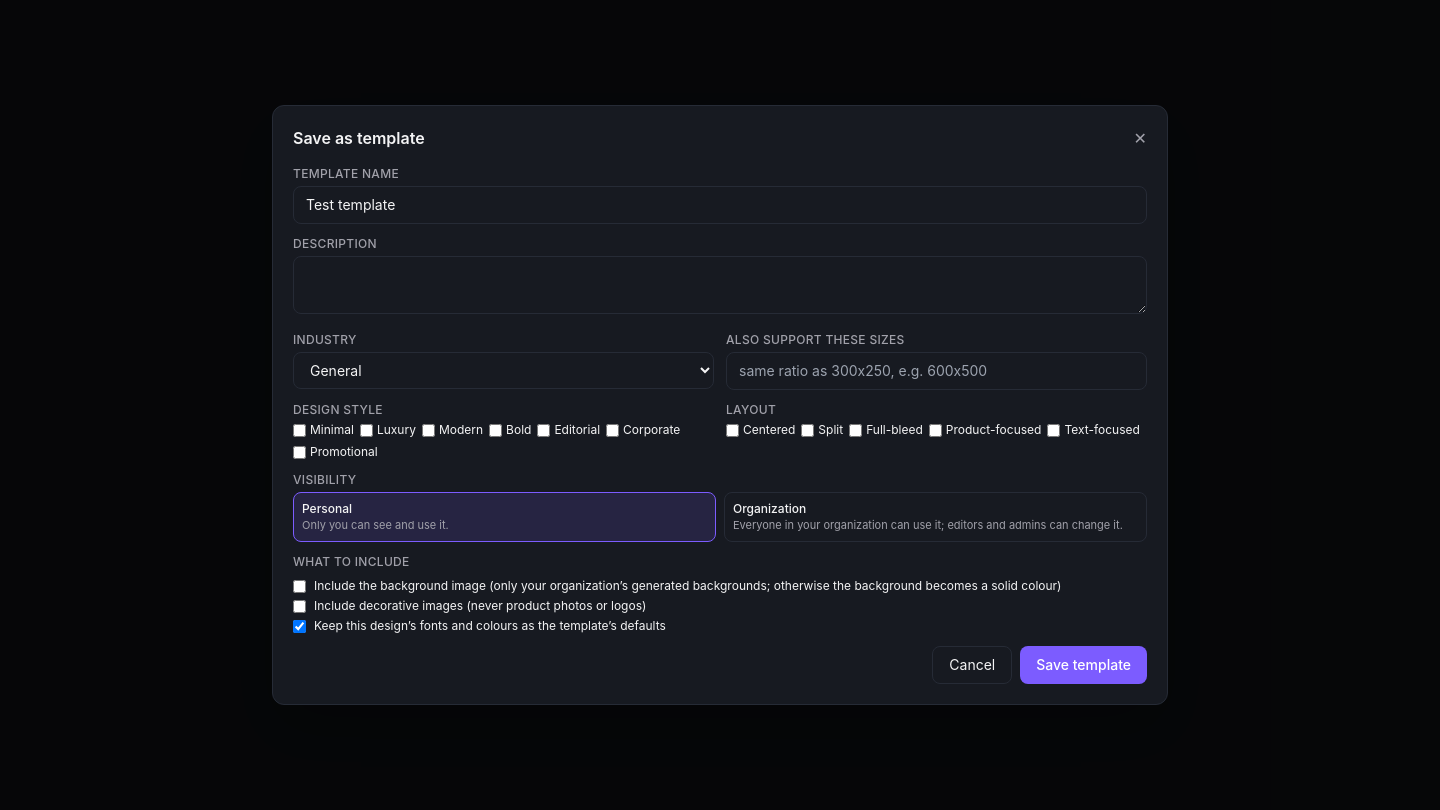
Test: save as template › shows the server's error and keeps the dialog open
Click the button "Save template" at (1084, 665), box [1020,646,1147,684]
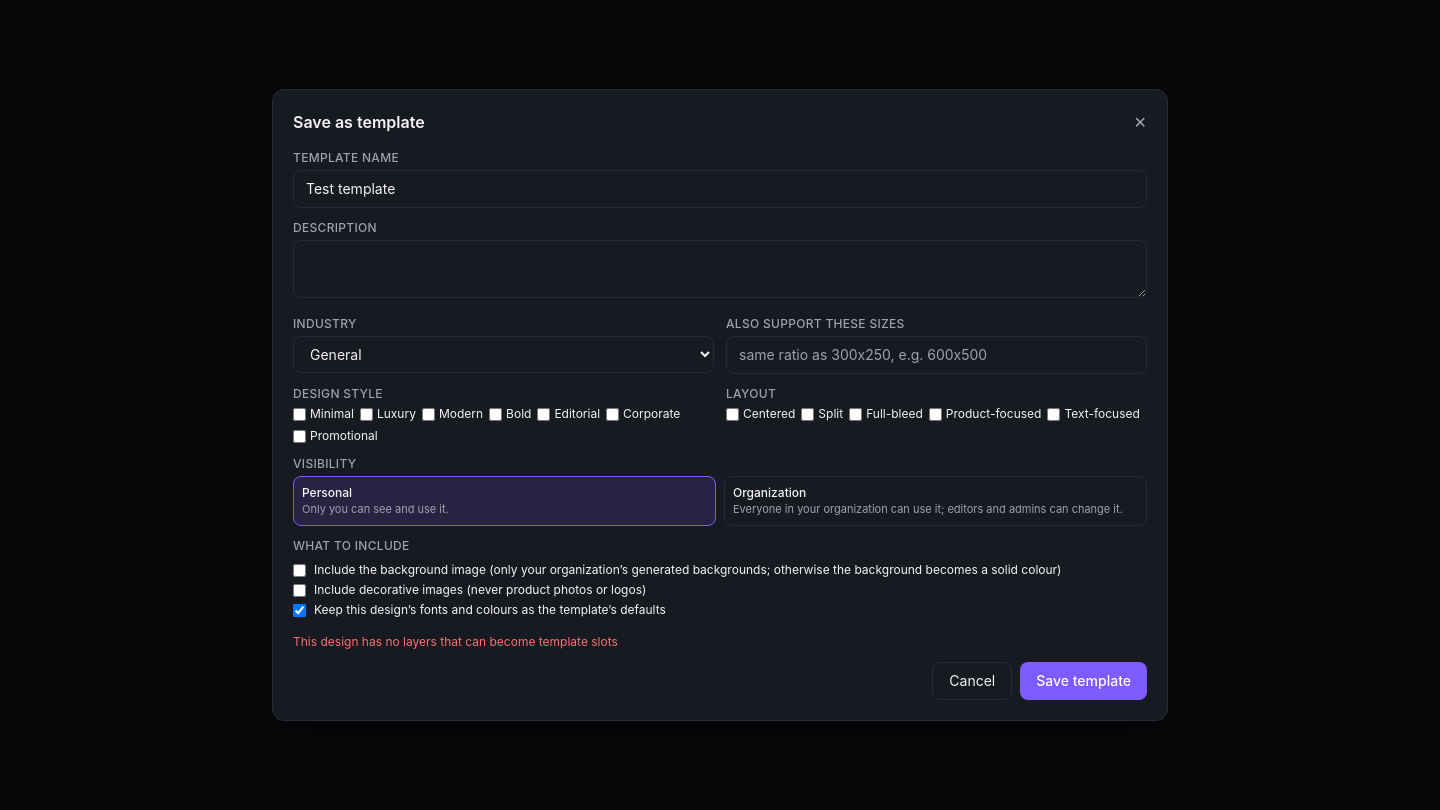
Now the message shows "no layers", box [293,634,618,649]
